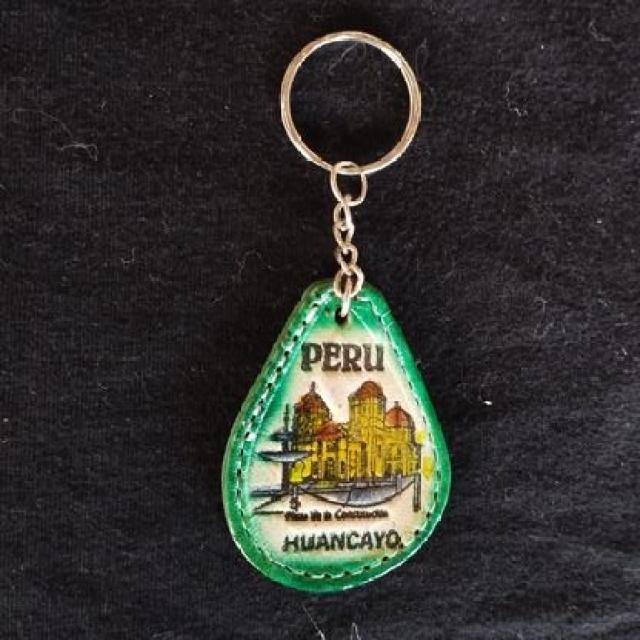Llavero: (219, 275, 453, 594)
